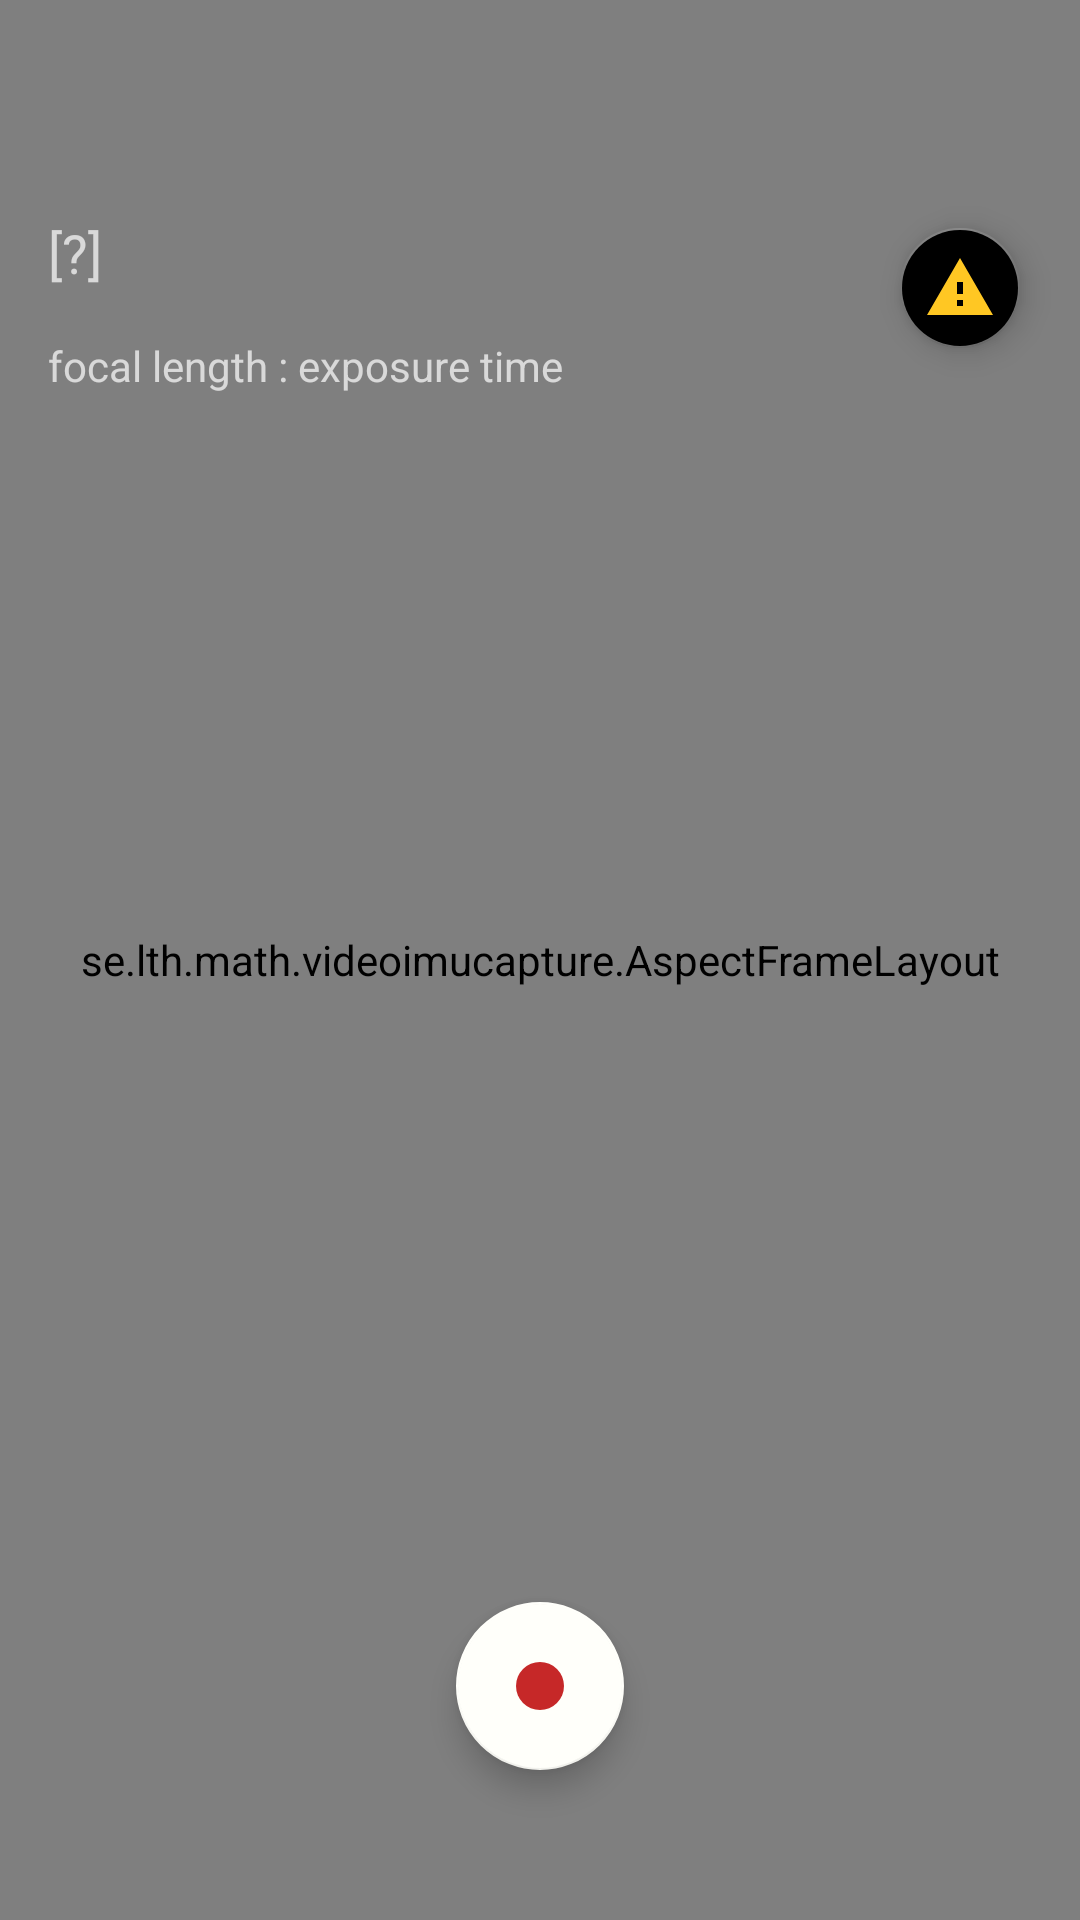

Screen size 1080px x 1920px. Icon name, then its center in pixels as (x,y):
start record: (540,1686)
warning: (960,288)
